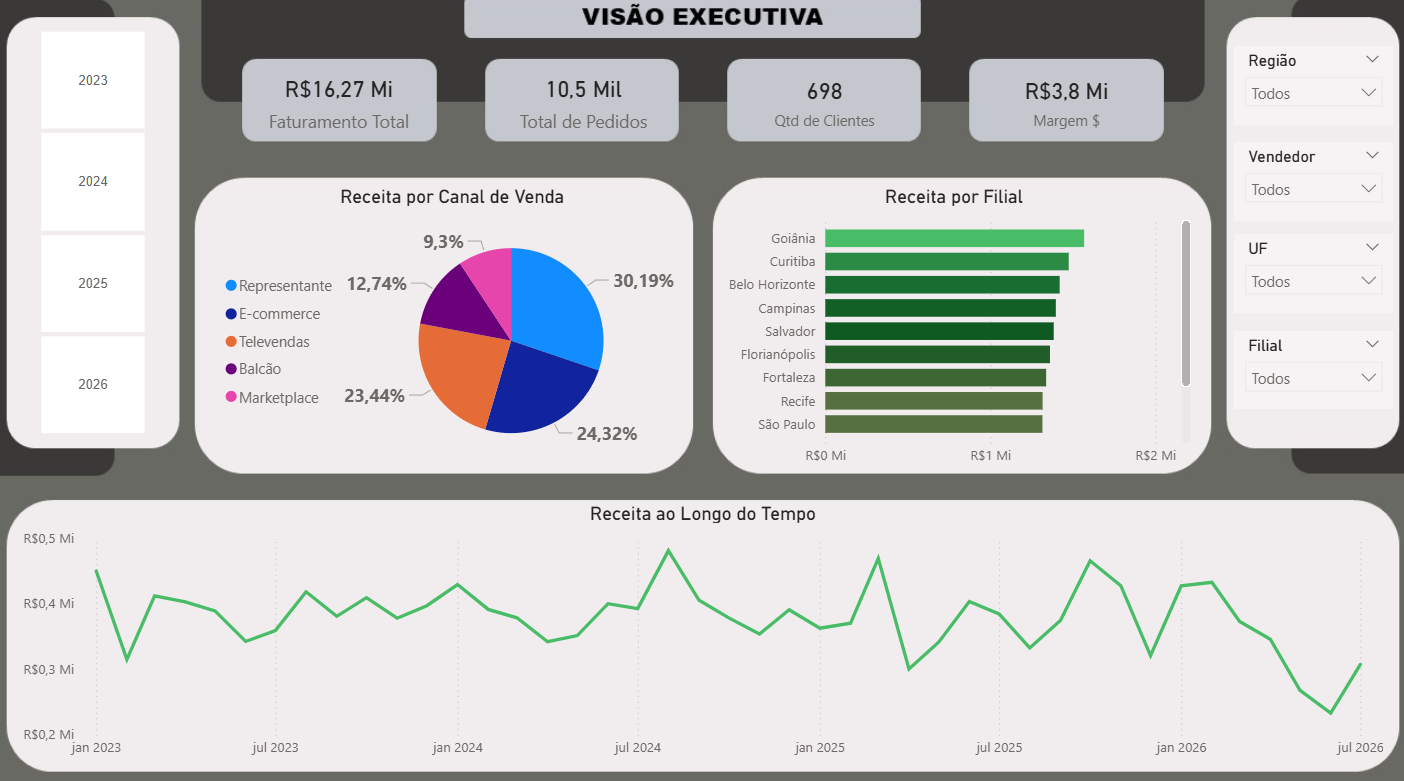

The page's visual inventory and layout, read from the dashboard file:
{"tool":"powerbi","page":{"name":"Visão Geral","canvas":[1280,720],"ordinal":0},"visuals":[{"type":"card","fields":{"Values":["Vendas.Faturamento Total"]},"box":[232.5,62.5,152.5,63.8],"z":0},{"type":"card","fields":{"Values":["Vendas.Qtd Total Pedido"]},"box":[455,62.5,151.9,63.8],"z":1000},{"type":"card","fields":{"Values":["Clientes.Qtd de Clientes"]},"box":[674.4,62.5,151.9,63.8],"z":2000},{"type":"card","fields":{"Values":["Vendas.Margem $"]},"box":[894.4,62.5,151.9,63.8],"z":3000},{"type":"slicer","fields":{"Values":["Calendario.Ano"]},"box":[16.4,25.5,136.4,379.1],"z":4000},{"type":"slicer","fields":{"Values":["Filiais.Filial"]},"box":[1122.7,304.6,145,71.4],"z":5000},{"type":"slicer","fields":{"Values":["Vendedores.Vendedor"]},"box":[1123,132.3,145,71.9],"z":6000},{"type":"slicer","fields":{"Values":["Clientes.Regiao"]},"box":[1122.7,45.4,145,72.1],"z":7000},{"type":"slicer","fields":{"Values":["Clientes.UF"]},"box":[1122.7,216.8,145,72.1],"z":8000},{"type":"lineChart","title":"Receita ao Longo do Tempo","fields":{"Y":["Sum(Vendas.Receita_Liquida)"],"Category":["Calendario.Ano_Mes"]},"box":[16.4,460,1247.3,240.9],"z":9000},{"type":"clusteredBarChart","title":"Receita por Filial","fields":{"Y":["Sum(Vendas.Receita_Liquida)"],"Category":["Filiais.Filial"]},"box":[648.2,171.8,440,263.6],"z":10000},{"type":"pieChart","title":"Receita por Canal de Venda","fields":{"Y":["Sum(Vendas.Receita_Liquida)"],"Category":["Pedidos.Canal_Venda"]},"box":[200,172,424,264],"z":11000}]}

Visuals, with their boxes in screenshot pixels (x1, y1, x2, y2), scaled from the page's 1280x720 canvas onto the 1404x781 screenshot:
card - Vendas.Faturamento Total: pyautogui.locateOnScreen(255, 68, 422, 137)
card - Vendas.Qtd Total Pedido: pyautogui.locateOnScreen(499, 68, 666, 137)
card - Clientes.Qtd de Clientes: pyautogui.locateOnScreen(740, 68, 906, 137)
card - Vendas.Margem $: pyautogui.locateOnScreen(981, 68, 1148, 137)
slicer - Calendario.Ano: pyautogui.locateOnScreen(18, 28, 168, 439)
slicer - Filiais.Filial: pyautogui.locateOnScreen(1231, 330, 1391, 408)
slicer - Vendedores.Vendedor: pyautogui.locateOnScreen(1232, 144, 1391, 222)
slicer - Clientes.Regiao: pyautogui.locateOnScreen(1231, 49, 1391, 127)
slicer - Clientes.UF: pyautogui.locateOnScreen(1231, 235, 1391, 313)
"Receita ao Longo do Tempo" lineChart: pyautogui.locateOnScreen(18, 499, 1386, 760)
"Receita por Filial" clusteredBarChart: pyautogui.locateOnScreen(711, 186, 1194, 472)
"Receita por Canal de Venda" pieChart: pyautogui.locateOnScreen(219, 187, 684, 473)
